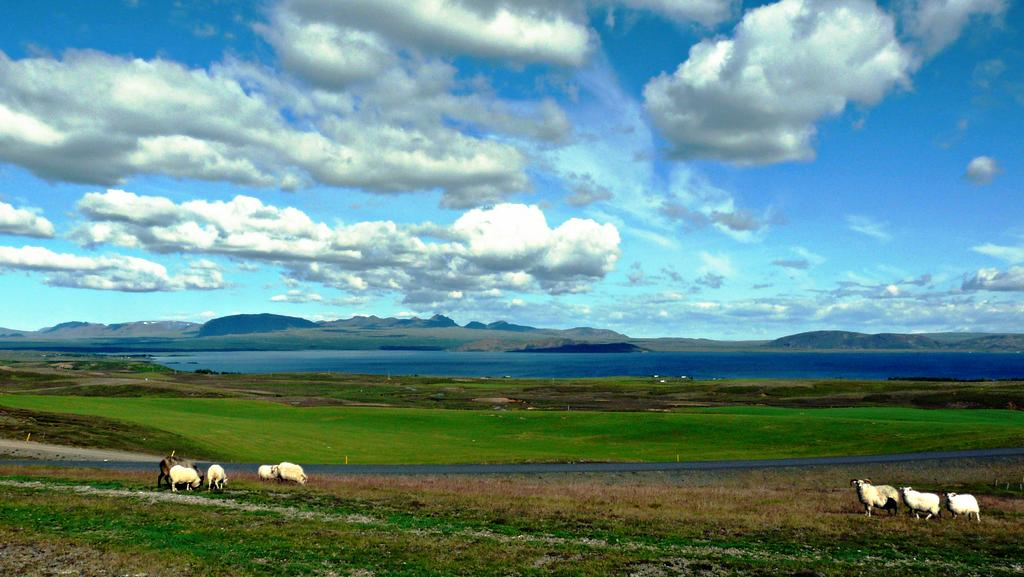Sheep: (848, 476, 901, 518), (898, 486, 938, 519), (945, 490, 981, 522), (169, 464, 202, 494), (280, 461, 309, 487), (206, 462, 229, 494), (257, 464, 280, 486)
